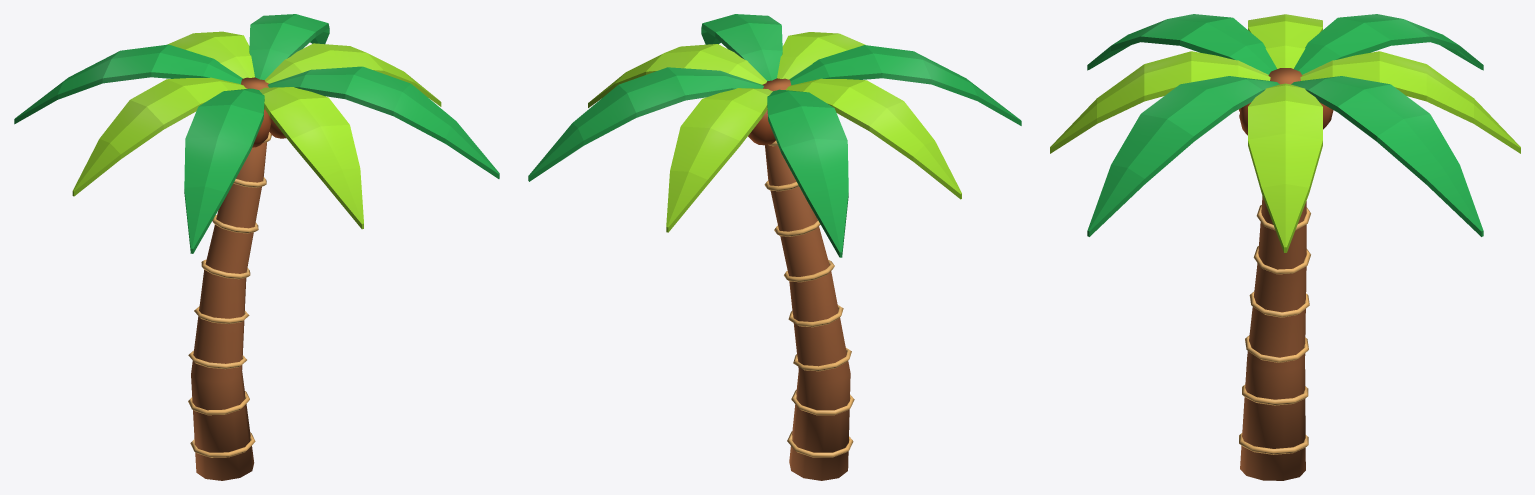
File: PalmTree.fbx
3 views of the same model, side by side, from view 1: azimuth 30°, elevation 25°; view 2: azimuth 150°, elevation 25°; view 3: azimuth 270°, elevation 25° (orthographic). The views are drawn at different scales.
Visible parts, largest first — view 1: PalmTree; view 2: PalmTree; view 3: PalmTree.
Boxes of the visible parts, x1,y1,x2,y2 form: PalmTree: [14, 14, 499, 480]; PalmTree: [528, 14, 1021, 480]; PalmTree: [1050, 14, 1520, 480].
Size of the model in its own units: 6 by 6.13 by 6.
1 material, 1 textured.
